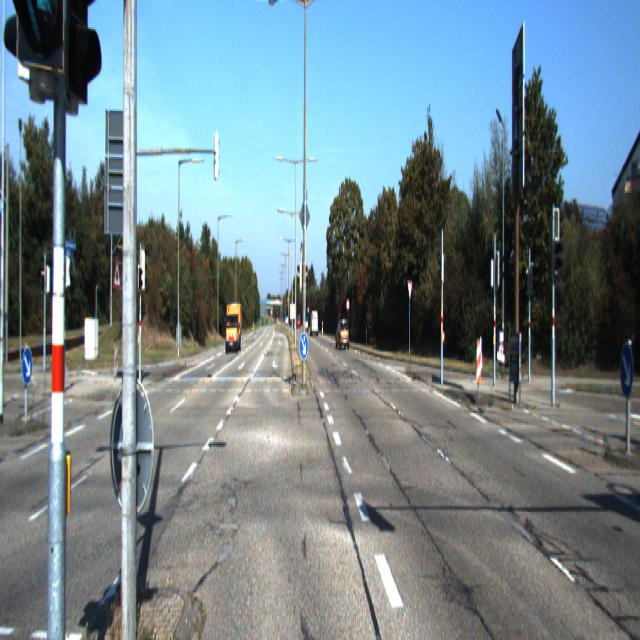Car: (223, 301, 242, 354), (336, 318, 349, 351)
